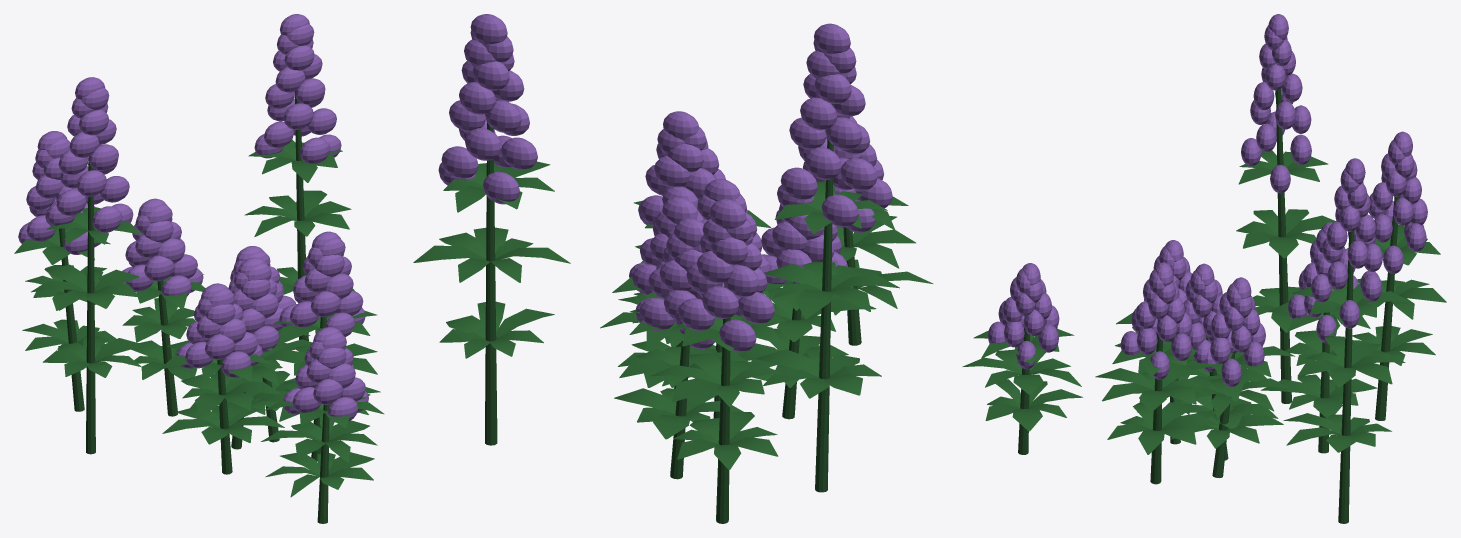
File: detail_lupine.glb
3 renders of one model, left to right at view 1: azimuth 30°, elevation 25°; view 2: azimuth 150°, elevation 25°; view 3: azimuth 270°, elevation 25°, orthographic. The views are drawn at different scales.
Visible parts, largest first — view 1: LupinePalmateLeaves, Cone.003, Cone.008, Cone.005, Cone.007, Cone.002, Cone.004, Sphere.062, Sphere.067, Sphere.167, Sphere.162, Sphere.064 (+41 smaller); view 2: LupinePalmateLeaves, Cone.003, Cone.008, Cone.002, Sphere.166, Sphere.066, Sphere.046, Sphere.063, Sphere.064, Sphere.164, Sphere.061, Sphere.071 (+32 smaller); view 3: LupinePalmateLeaves, Cone.008, Cone.003, Cone.002, Cone, Cone.006, Cone.005, Cone.007.
Part boxes in pixels (bbox=[...]): LupinePalmateLeaves: bbox=[14, 139, 384, 497]; Cone.003: bbox=[86, 156, 95, 454]; Cone.008: bbox=[295, 91, 308, 341]; Cone.005: bbox=[157, 280, 177, 416]; Cone.007: bbox=[317, 404, 329, 523]; Cone.002: bbox=[56, 199, 84, 411]; Cone.004: bbox=[217, 359, 232, 474]; Sphere.062: bbox=[92, 206, 122, 232]; Sphere.067: bbox=[77, 170, 106, 196]; Sphere.167: bbox=[283, 103, 313, 129]; Sphere.162: bbox=[300, 137, 329, 163]; Sphere.064: bbox=[56, 189, 86, 215]; LupinePalmateLeaves: bbox=[413, 161, 933, 469]; Cone.003: bbox=[815, 103, 833, 492]; Cone.008: bbox=[485, 122, 497, 445]; Cone.002: bbox=[716, 286, 730, 523]; Sphere.166: bbox=[465, 128, 501, 160]; Sphere.066: bbox=[804, 147, 841, 179]; Sphere.046: bbox=[702, 286, 738, 318]; Sphere.063: bbox=[780, 167, 817, 200]; Sphere.064: bbox=[840, 158, 877, 190]; Sphere.164: bbox=[501, 137, 537, 170]; Sphere.061: bbox=[821, 194, 858, 227]; Sphere.071: bbox=[800, 97, 836, 130]; LupinePalmateLeaves: bbox=[962, 150, 1446, 454]; Cone.008: bbox=[1338, 231, 1354, 523]; Cone.003: bbox=[1276, 88, 1291, 403]; Cone.002: bbox=[1375, 195, 1399, 420]; Cone: bbox=[1150, 319, 1162, 484]; Cone.006: bbox=[1212, 332, 1235, 477]; Cone.005: bbox=[1318, 312, 1329, 453]; Cone.007: bbox=[1018, 327, 1029, 454].
Bounding box in the file's own units: 1.03 × 1.11 × 1.26.
